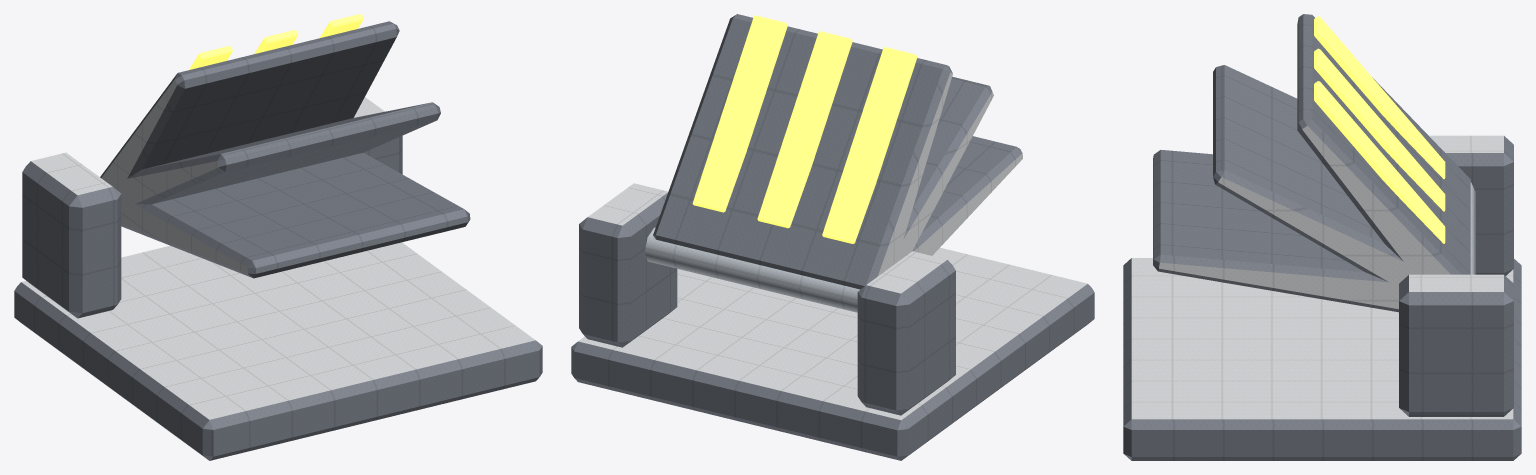
Rendered from R4X_RampDeployer_LOD1.glb.
The picture shows the model from 3 angles, left to right: view 1: azimuth 30°, elevation 25°; view 2: azimuth 150°, elevation 25°; view 3: azimuth 270°, elevation 25°; orthographic projection. The views are drawn at different scales.
Parts seen in each view (by area): view 1: R4X_RampDeployer_LOD1; view 2: R4X_RampDeployer_LOD1; view 3: R4X_RampDeployer_LOD1.
Part boxes in pixels (x1=…): R4X_RampDeployer_LOD1: x1=14, y1=14, x2=542, y2=460; R4X_RampDeployer_LOD1: x1=571, y1=14, x2=1094, y2=460; R4X_RampDeployer_LOD1: x1=1123, y1=14, x2=1521, y2=460.
Size of the model in its own units: 0.52 by 0.4673 by 0.52.
Materials: 4 (3 with a texture image).
